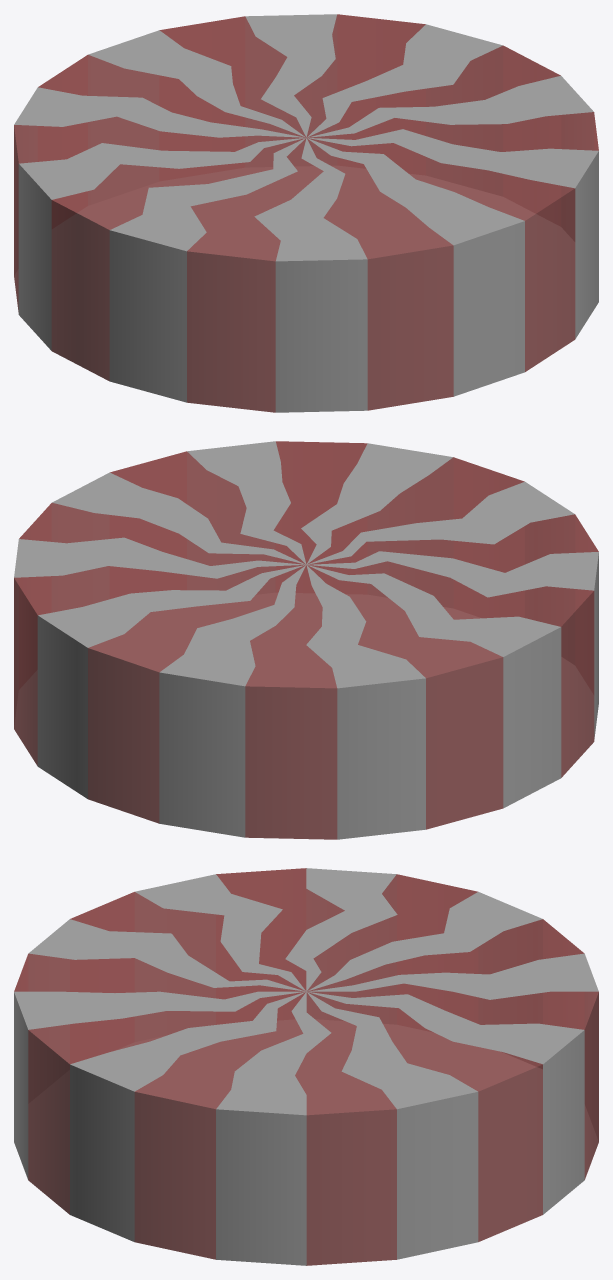
The model's file is CANDY3.fbx.
The picture shows the model from 3 angles, top to bottom: view 1: azimuth 30°, elevation 25°; view 2: azimuth 150°, elevation 25°; view 3: azimuth 270°, elevation 25°; orthographic projection.
Parts seen in each view (by area): view 1: polySurface787; view 2: polySurface787; view 3: polySurface787.
Part boxes in pixels (x1,y1,x2,y2): polySurface787: (14,14,598,412); polySurface787: (14,441,598,839); polySurface787: (14,868,598,1265).
Size of the model in its own units: 2.58 by 0.7332 by 2.58.
